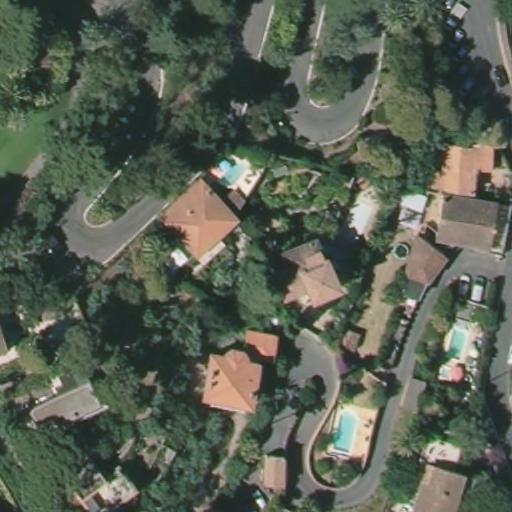pool: (327, 409, 361, 457), (444, 325, 469, 360), (219, 156, 248, 186)
